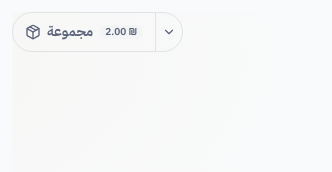
Test case: a card holding exactly one product › still reaches its + and X through the chevron
Click the button with test id "quick-card-a-menu" at (169, 32), box [155,13,182,51]
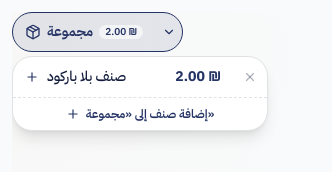
Result: the button "إضافة صنف إلى «مجموعة»" is shown at [13,97,267,130]
